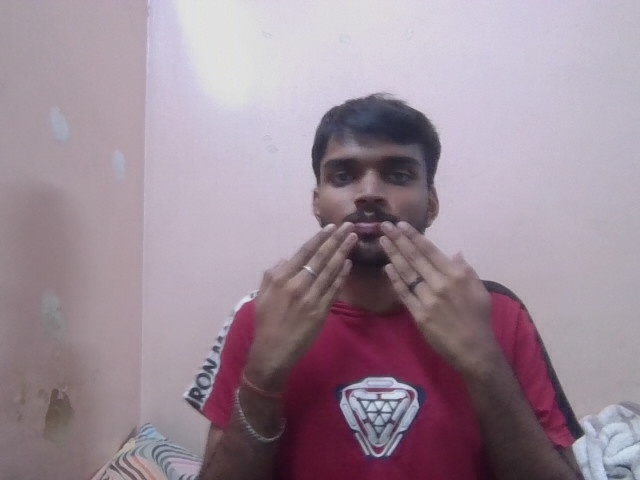Thank You: (257, 221, 505, 371)
